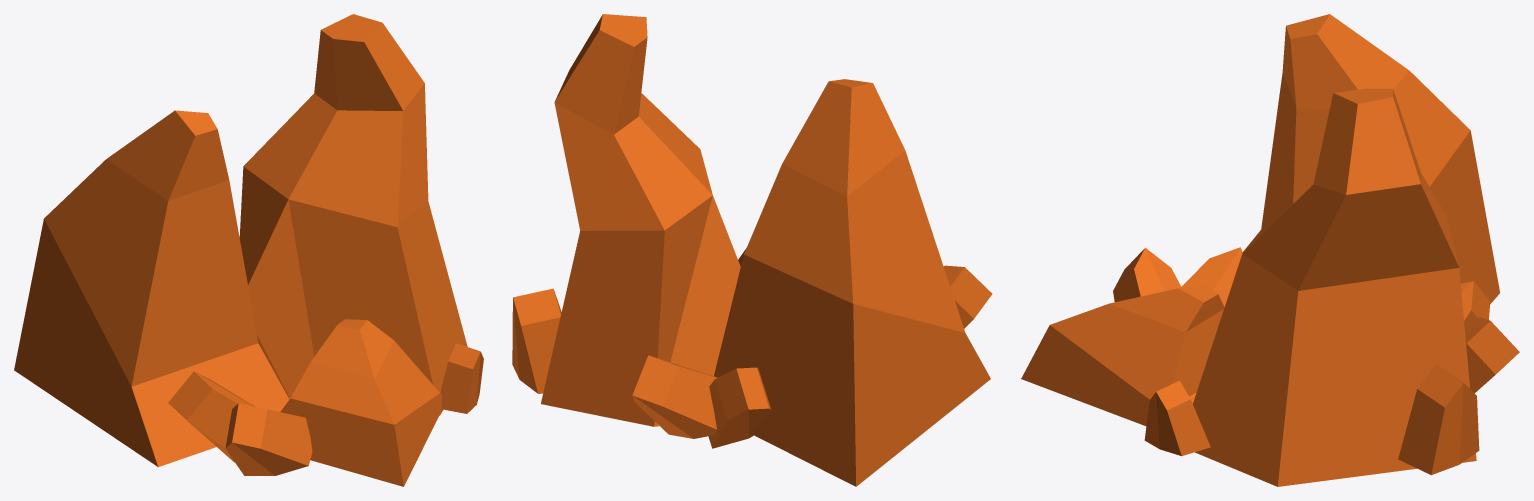
The model's file is Rock01.glb.
3 renders of one model, left to right at view 1: azimuth 30°, elevation 25°; view 2: azimuth 150°, elevation 25°; view 3: azimuth 270°, elevation 25°, orthographic. The views are drawn at different scales.
Visible parts, largest first — view 1: Rock_Type3_02_mesh; view 2: Rock_Type3_02_mesh; view 3: Rock_Type3_02_mesh.
Part boxes in pixels (left/top/right/bottom): Rock_Type3_02_mesh: left=14, top=14, right=483, bottom=486; Rock_Type3_02_mesh: left=512, top=14, right=992, bottom=486; Rock_Type3_02_mesh: left=1021, top=14, right=1519, bottom=486.
Bounding box in the file's own units: 2.3 × 2.1 × 2.57.
